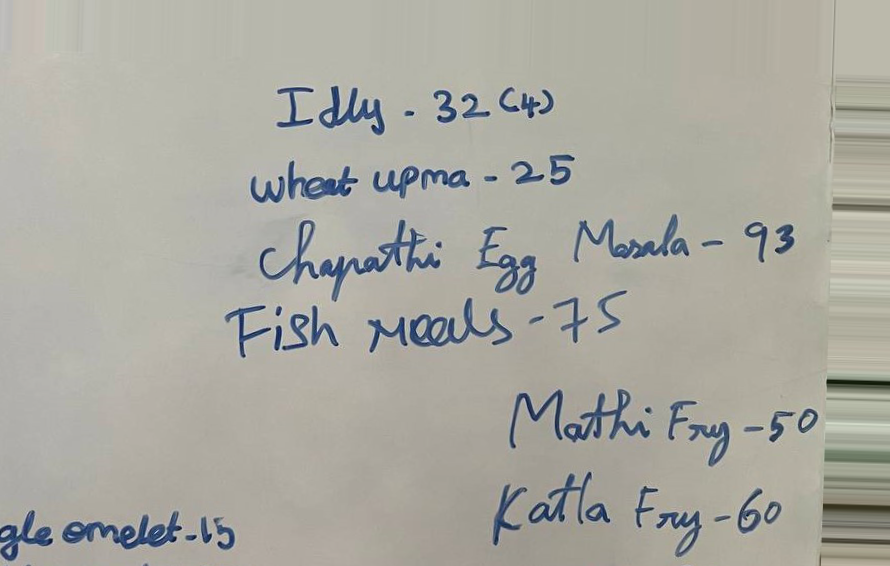chapathi egg masala - 93: (253, 213, 801, 286)
fish Meals - 75: (222, 287, 635, 352)
idly(4) - 32: (267, 77, 558, 140)
katla fry - 60: (486, 473, 787, 548)
mathi fry - 50: (502, 378, 824, 468)
wheat upma - 25: (247, 149, 576, 210)
